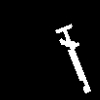double_crochet: (56, 25, 90, 92)
